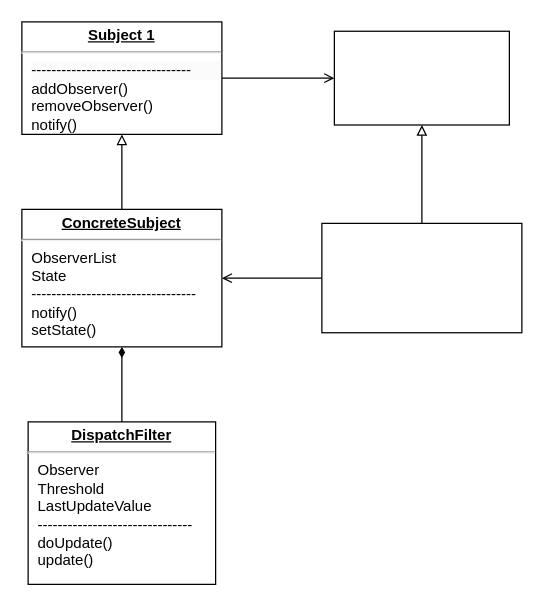
Some shapes in this 544 by 606 pixel diagram are drawn without their labels. The shapes that lost their labels are listed below. From the top down, each one's centre as x and y in pixels, then its label:
pixel 421 77: Observer 1 ----------------------------- update()
pixel 421 277: ConcreteObserver A -------------------------------- Update()
